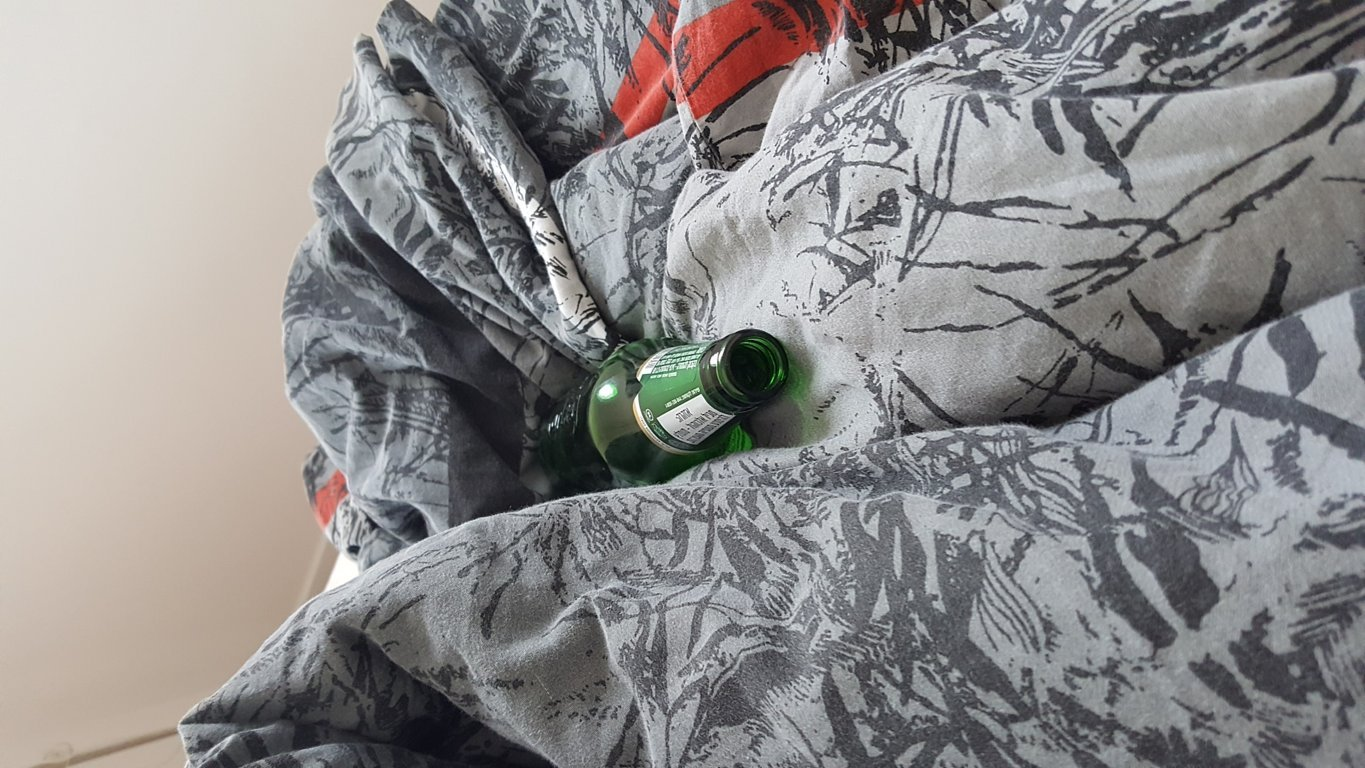beer: (540, 334, 789, 482)
